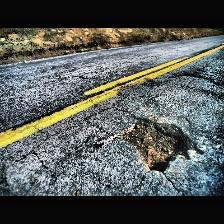pothole: (116, 116, 204, 174)
